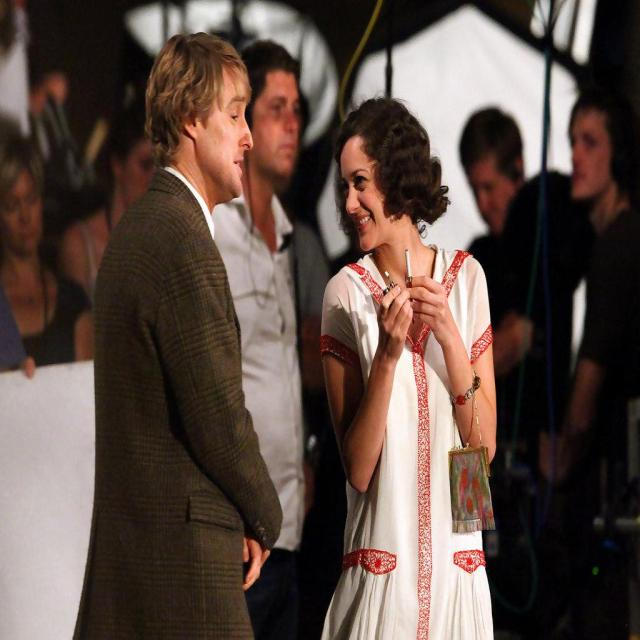cigarette: (397, 232, 422, 301)
